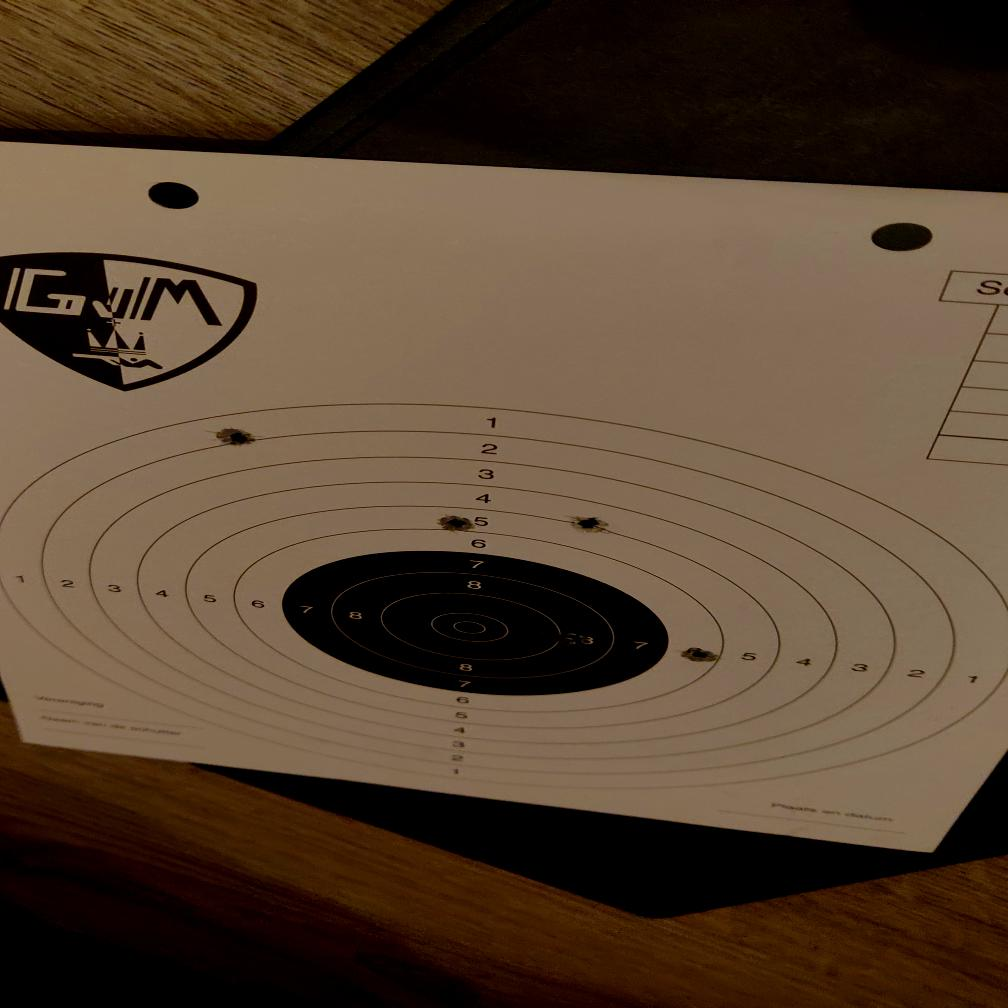2: (213, 428, 257, 447)
5: (567, 515, 610, 535)
6: (435, 515, 476, 533), (679, 649, 720, 663)
9: (542, 630, 592, 650)
Target: (0, 401, 1008, 790)
black_contour: (280, 550, 668, 695)
